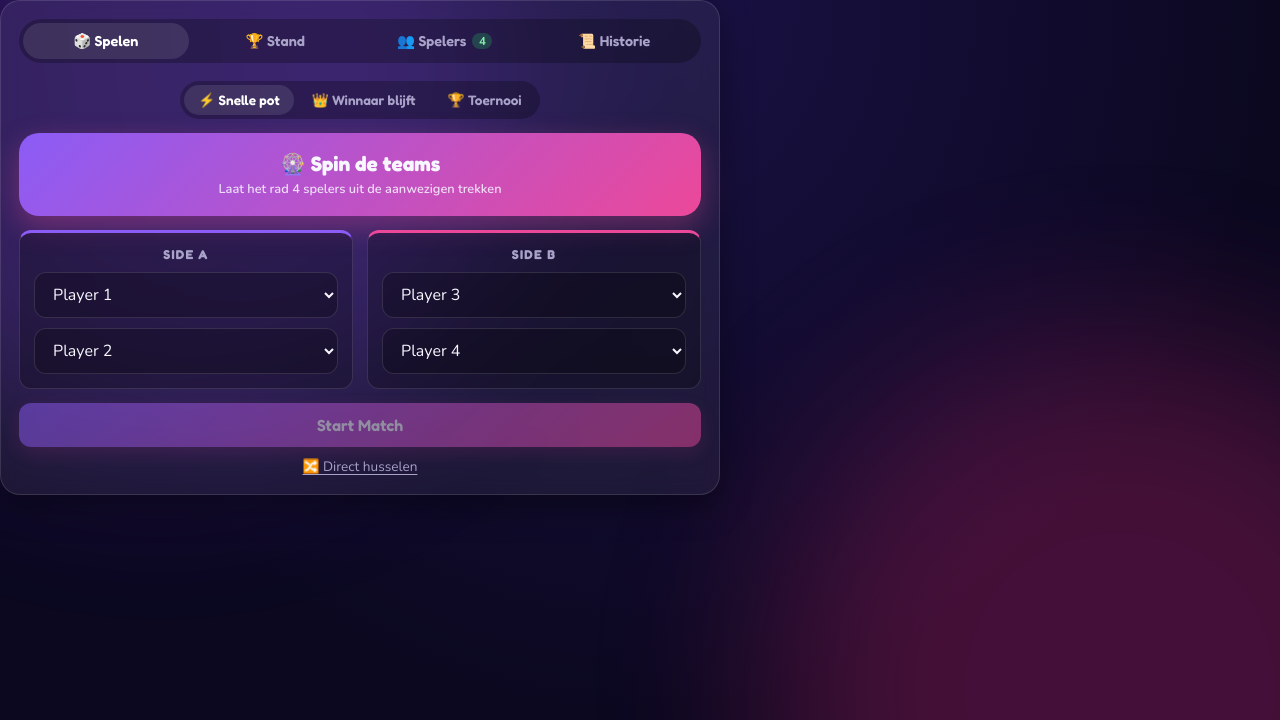
Test case: tournament: four players make two duos, two results crown a champion
This screenshot has width=1280, height=720.
expect the tab "🎲 Spelen" is shown: met, box [23, 23, 188, 59]
expect the tab "👥 Spelers 4" is shown: met, box [362, 23, 528, 59]
Click the button "🏆 Toernooi": (485,100) [434, 85, 536, 115]
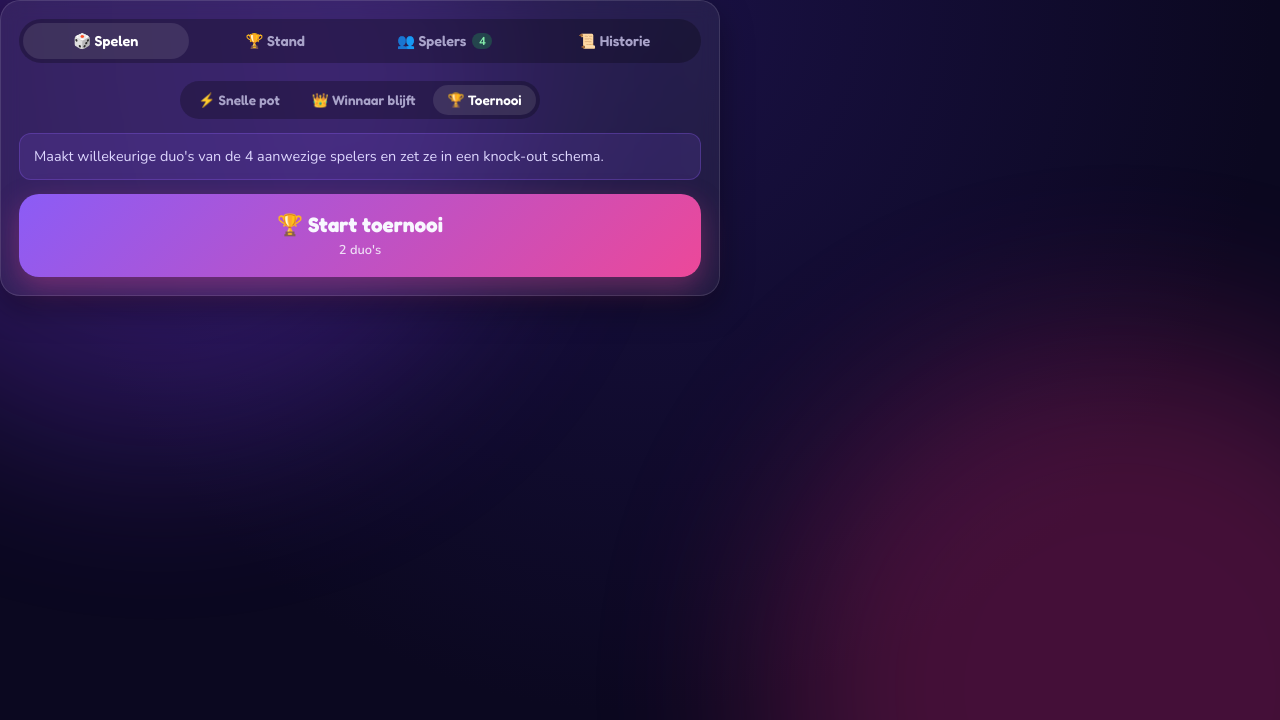
Click the button "🏆 Start toernooi 2 duo's": (360,235) [19, 194, 701, 277]
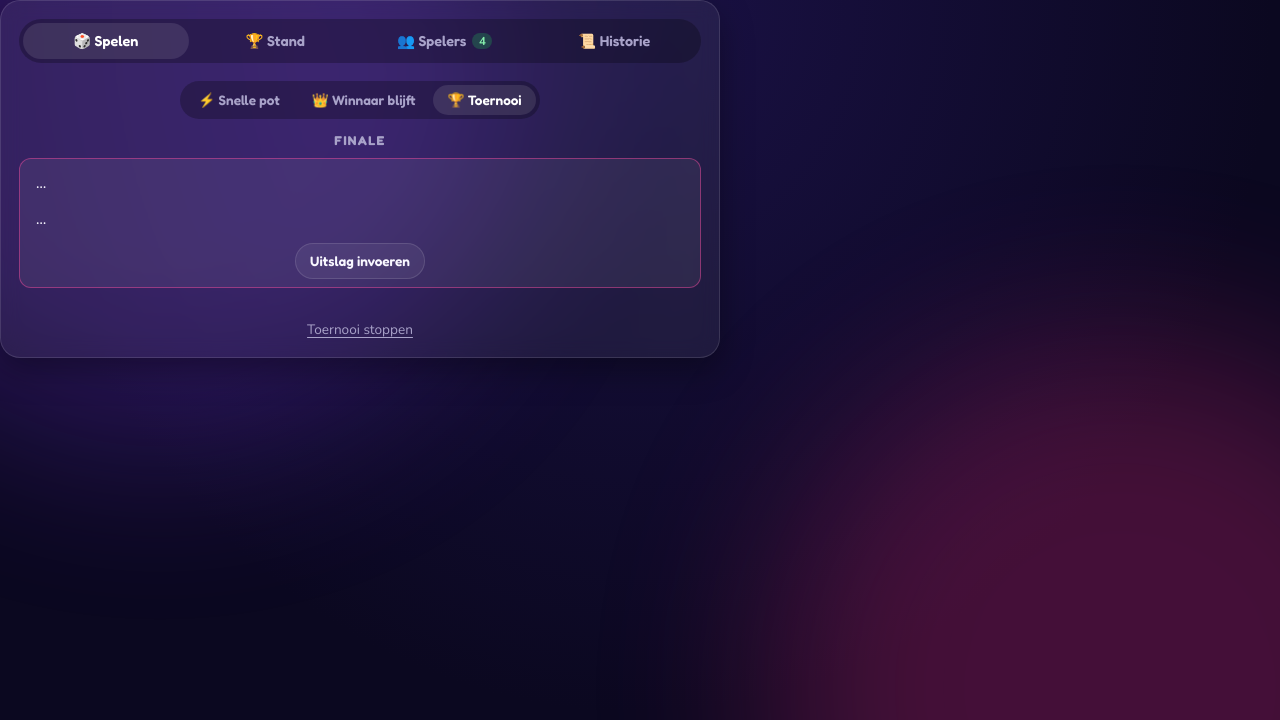
expect the heading "Finale" is shown: met, box [334, 133, 386, 148]
Click the button "Uitslag invoeren": (360,261) [295, 243, 425, 279]
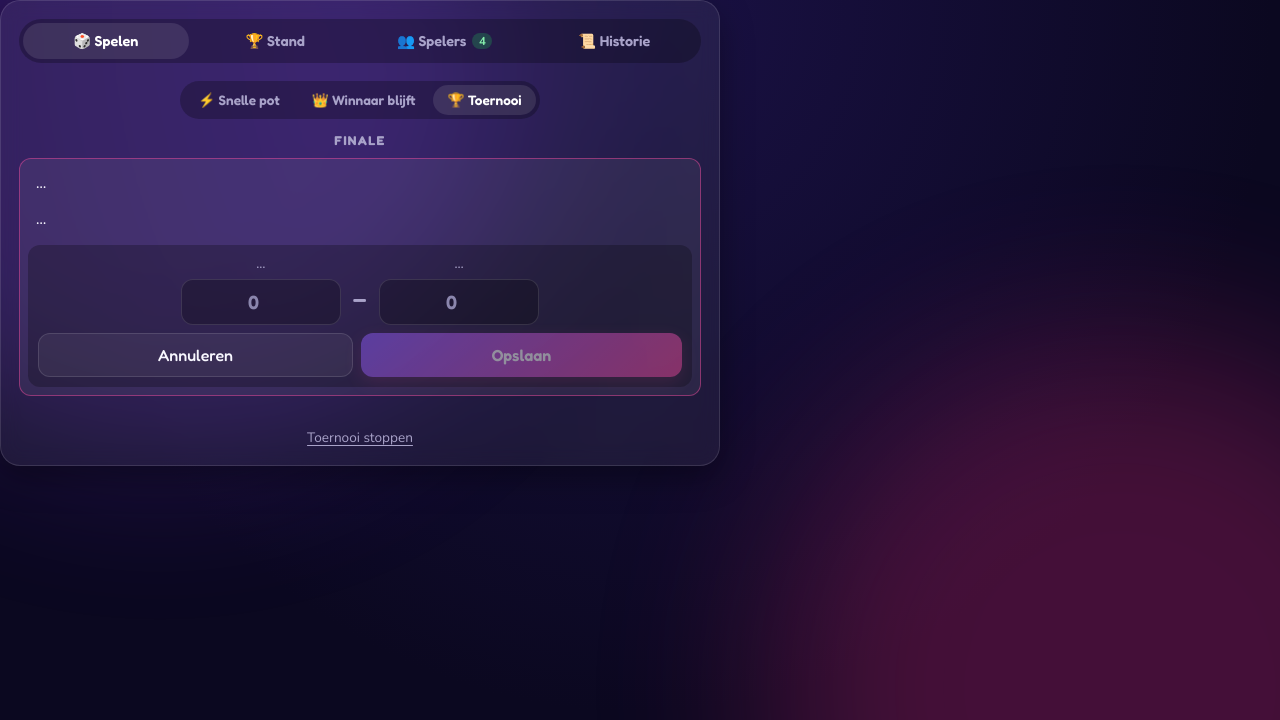
In the 1st number field labelled "…": (261,302) [181, 279, 341, 325], type "10"
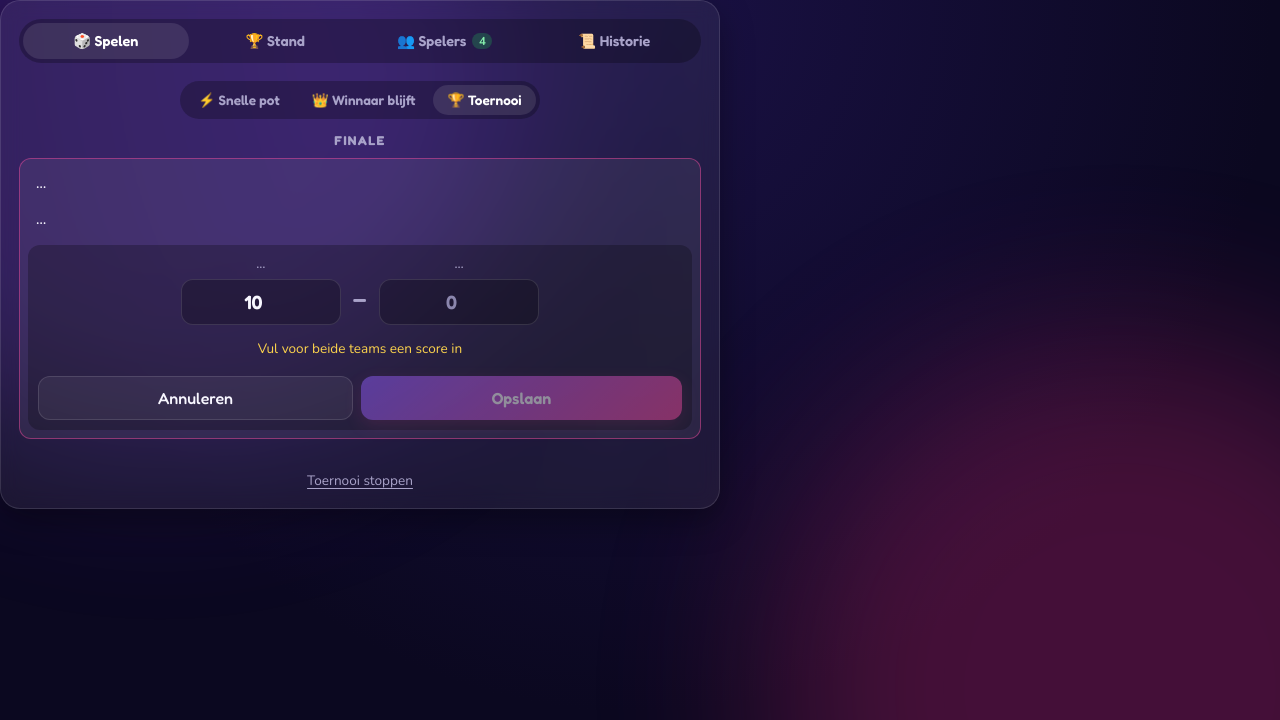
In the 2nd number field labelled "…": (459,302) [379, 279, 539, 325], type "7"
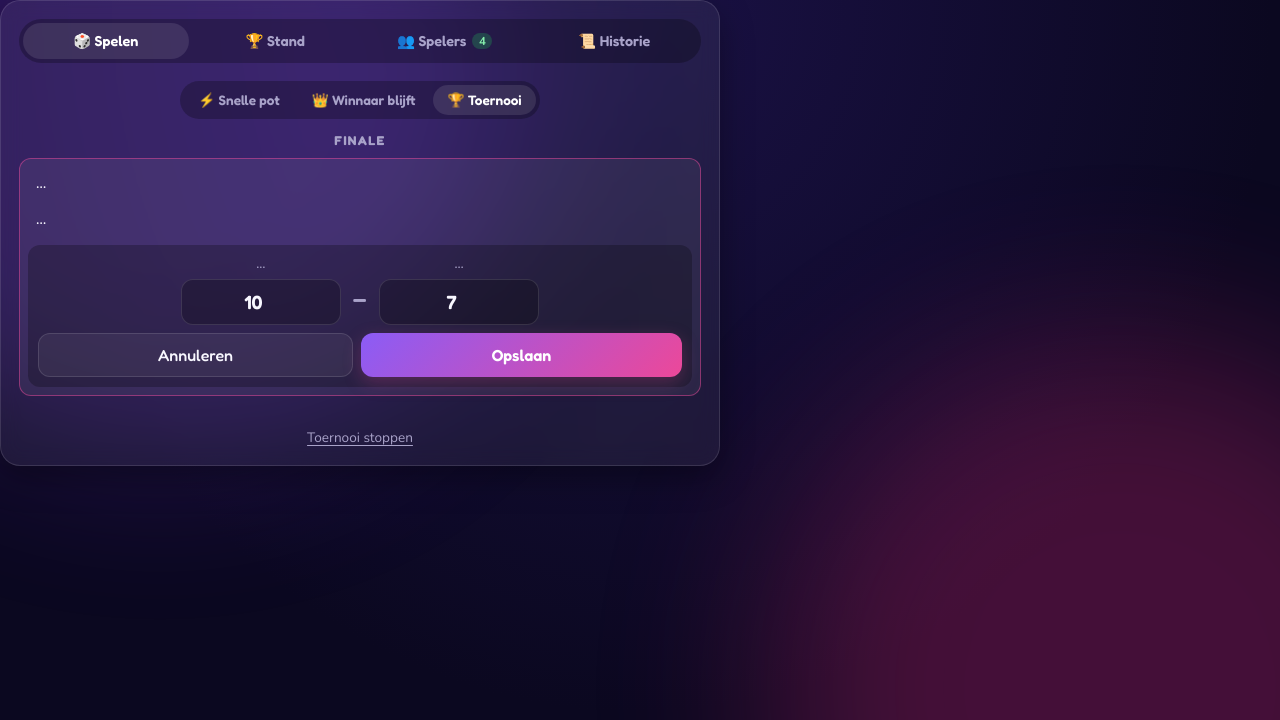
Click the button "Opslaan": (522,355) [361, 333, 682, 377]
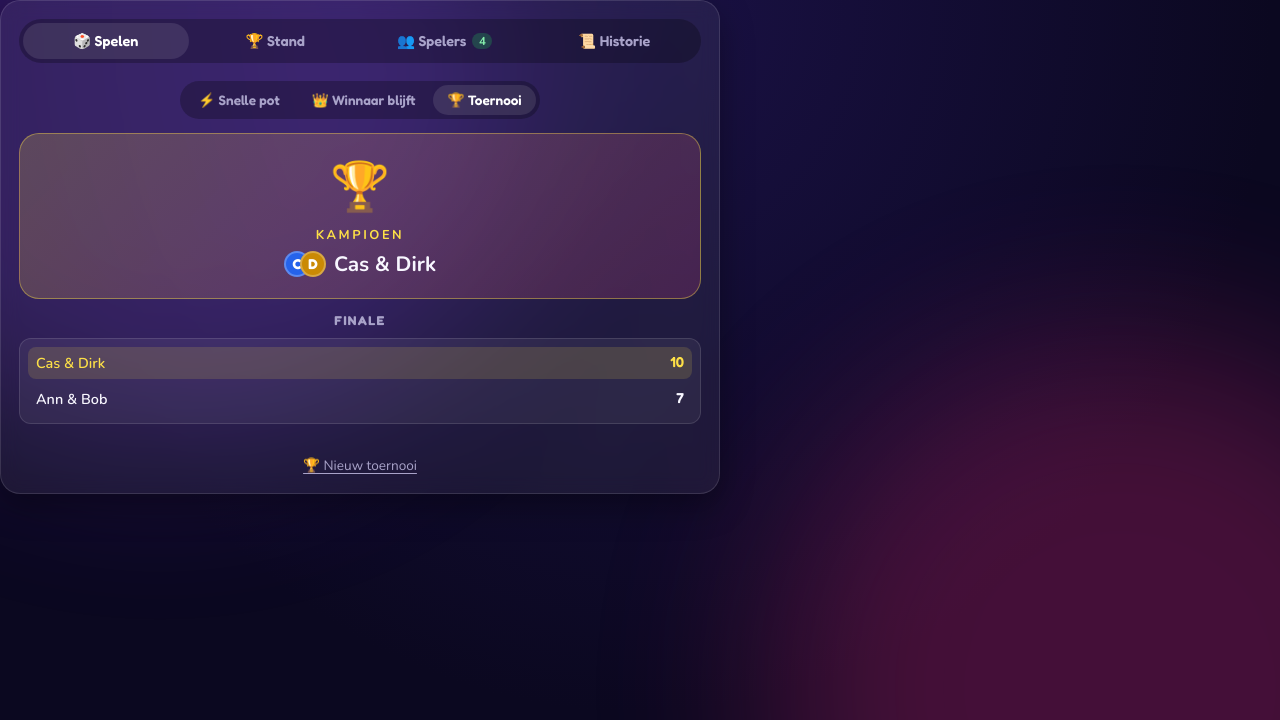
expect the text "Kampioen" is shown: met, box [316, 226, 404, 244]
